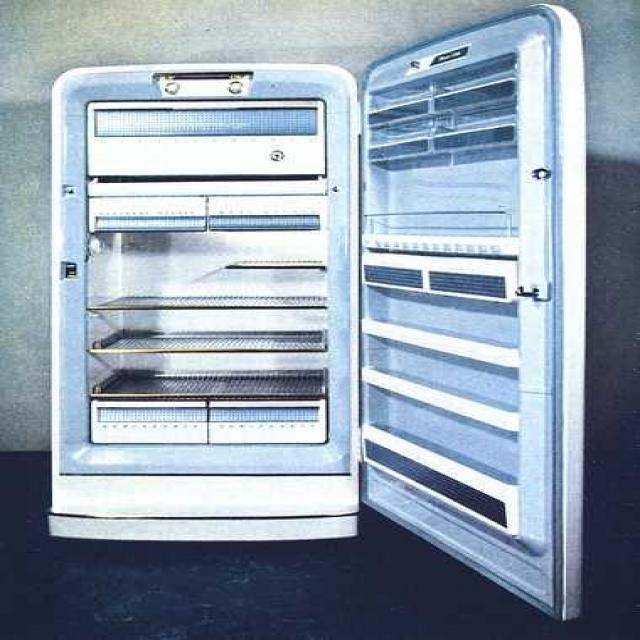refrigerator: (41, 65, 403, 479)
